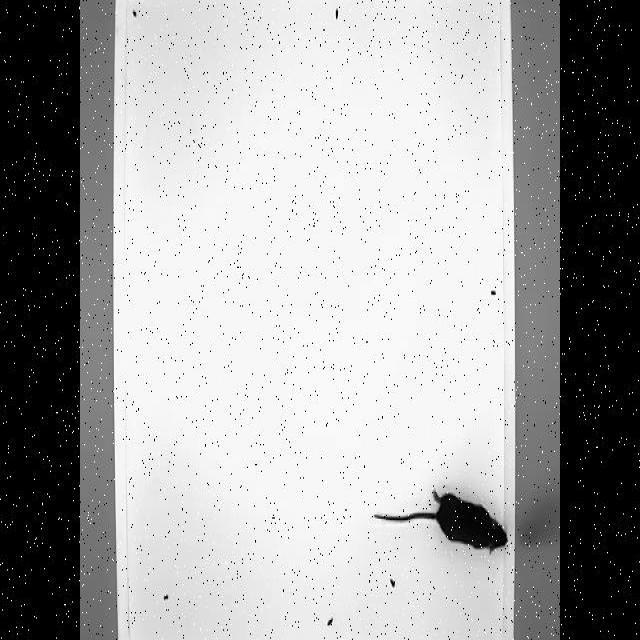rat: (372, 484, 510, 556)
